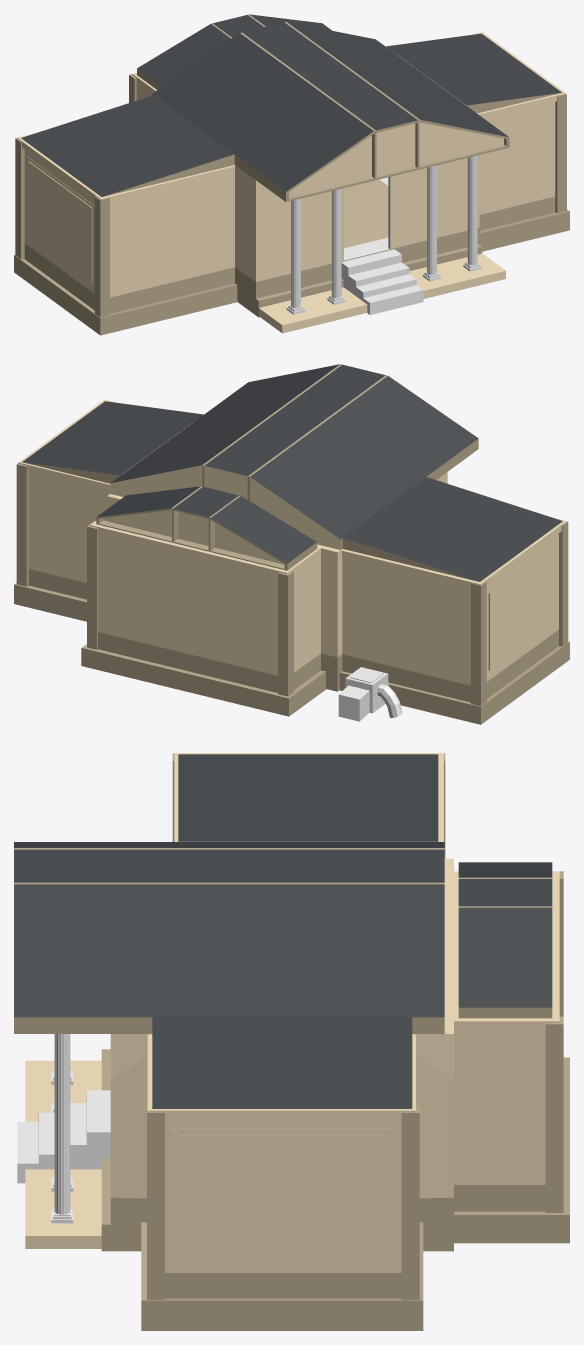
The model's file is bank_low_poly.glb.
The picture shows the model from 3 angles, top to bottom: view 1: azimuth 30°, elevation 25°; view 2: azimuth 150°, elevation 25°; view 3: azimuth 270°, elevation 25°; orthographic projection. The views are drawn at different scales.
Visible parts, largest first — view 1: Roof, Roof and Walls, Ground, Columns; view 2: Roof, Roof and Walls, Ground, AC Unit; view 3: Roof, Roof and Walls, Ground, Columns.
Part boxes in pixels (bbox=[...]): Roof: bbox=[21, 14, 561, 201]; Roof and Walls: bbox=[15, 32, 566, 317]; Ground: bbox=[14, 177, 569, 335]; Columns: bbox=[286, 155, 481, 314]; Roof: bbox=[22, 364, 562, 581]; Roof and Walls: bbox=[16, 399, 568, 706]; Ground: bbox=[14, 569, 569, 724]; AC Unit: bbox=[338, 667, 402, 721]; Roof: bbox=[14, 754, 552, 1108]; Roof and Walls: bbox=[110, 753, 563, 1299]; Ground: bbox=[17, 1049, 569, 1330]; Columns: bbox=[51, 1034, 73, 1223].
Size of the model in its own units: 13.86 by 5.4 by 9.02.
